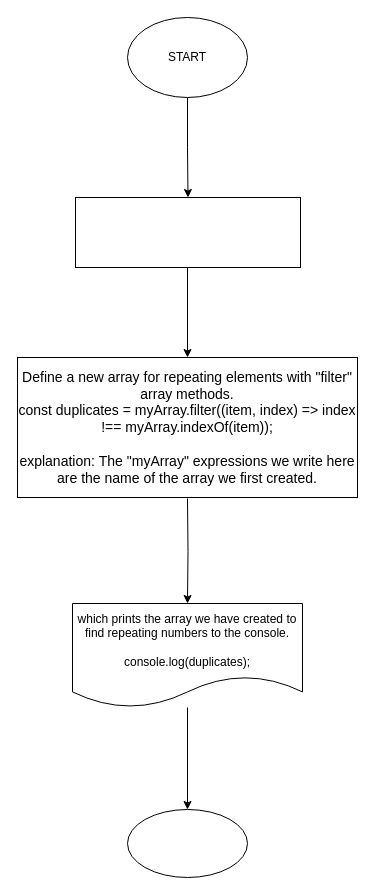
Image size: 375x895. Some labels were removed from this diagram. The box of each missing label's shape, as (x1, y1, x2, y2) in pixels:
END: (126, 808, 248, 878)
Let's write an array. for example; const myArray = [2, 4, 2, 3, 4, 4, 3, 3]: (74, 196, 300, 268)
